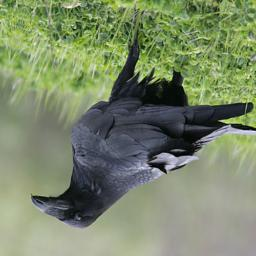Crow: (26, 11, 256, 256)
